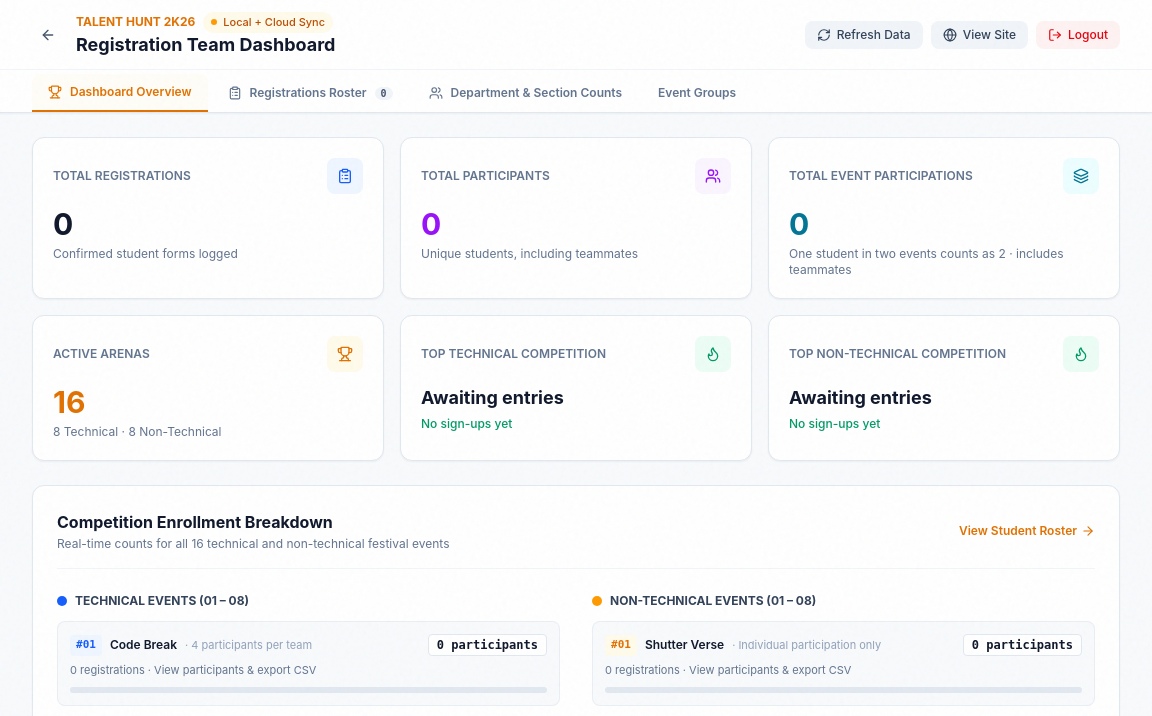
Test case: separate admin portals › offers dashboard, read-only roster and academic counts to the registration team
Expected: the button "Dashboard Overview" is shown, x1=32 y1=74 x2=208 y2=112
Click the button "Registrations Roster 0": (310, 93) x1=212 y1=74 x2=409 y2=112
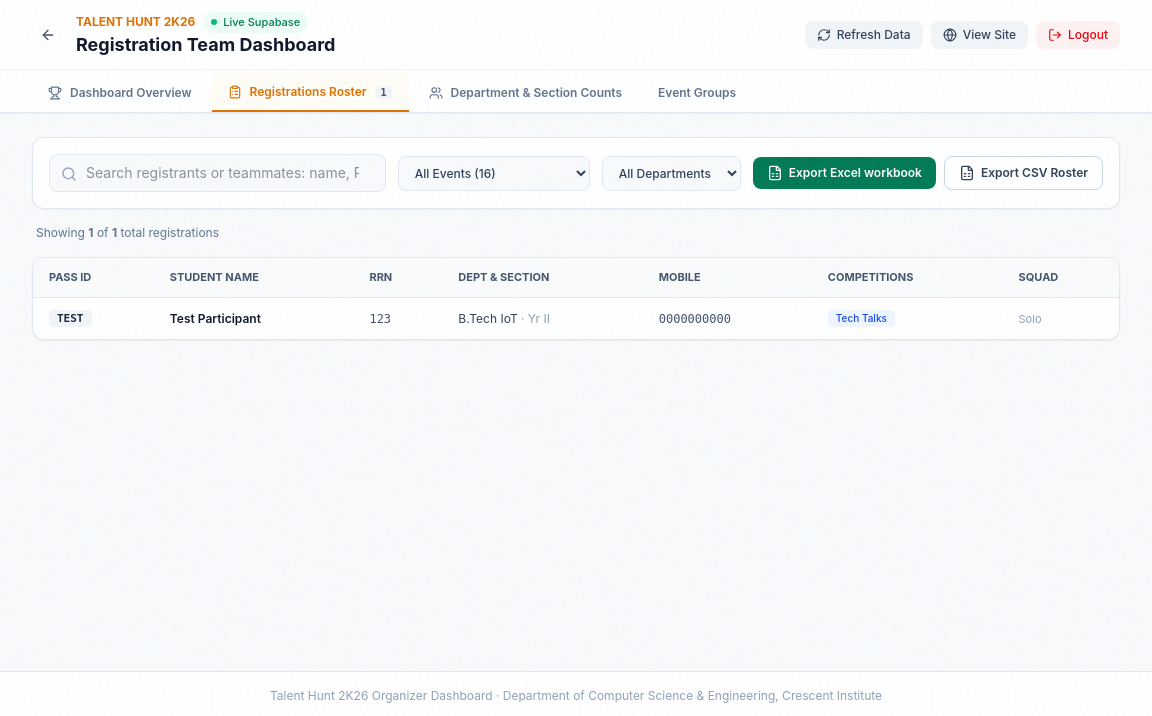
Expected: the text "Test Participant" is shown, x1=154 y1=297 x2=353 y2=339
Click the button "Department & Section Counts": (525, 93) x1=413 y1=74 x2=638 y2=112
(page scrolled)
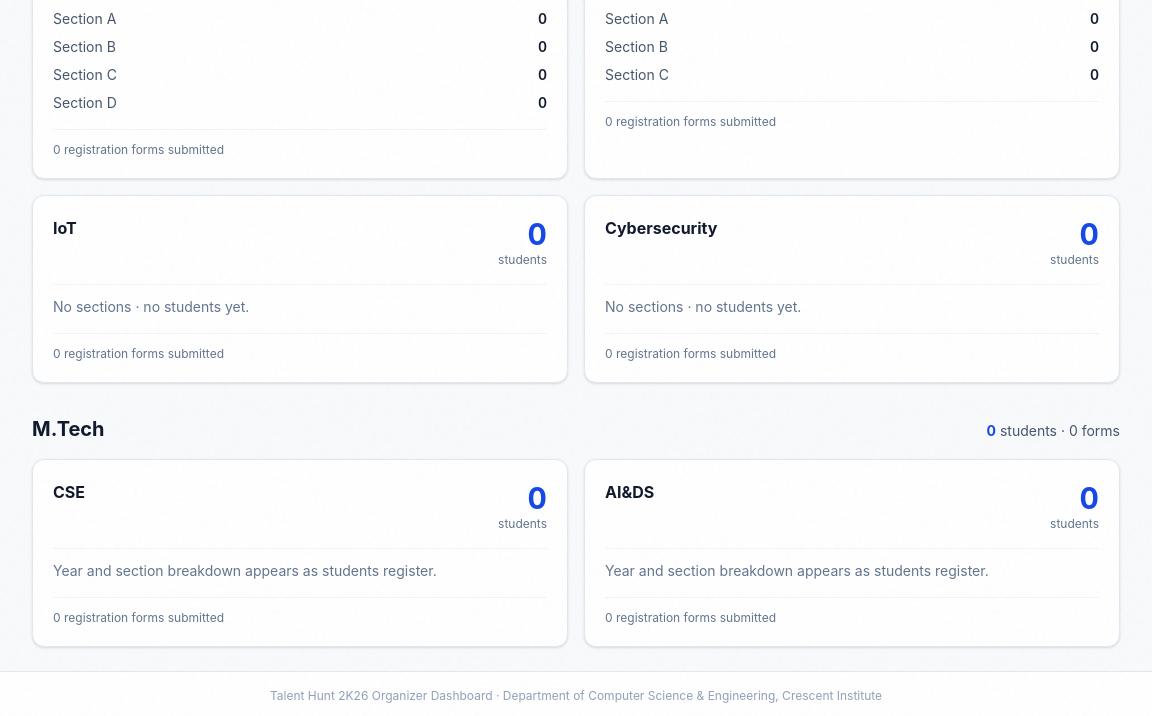
Expected: the heading "M.Tech" is shown, x1=32 y1=415 x2=105 y2=443
